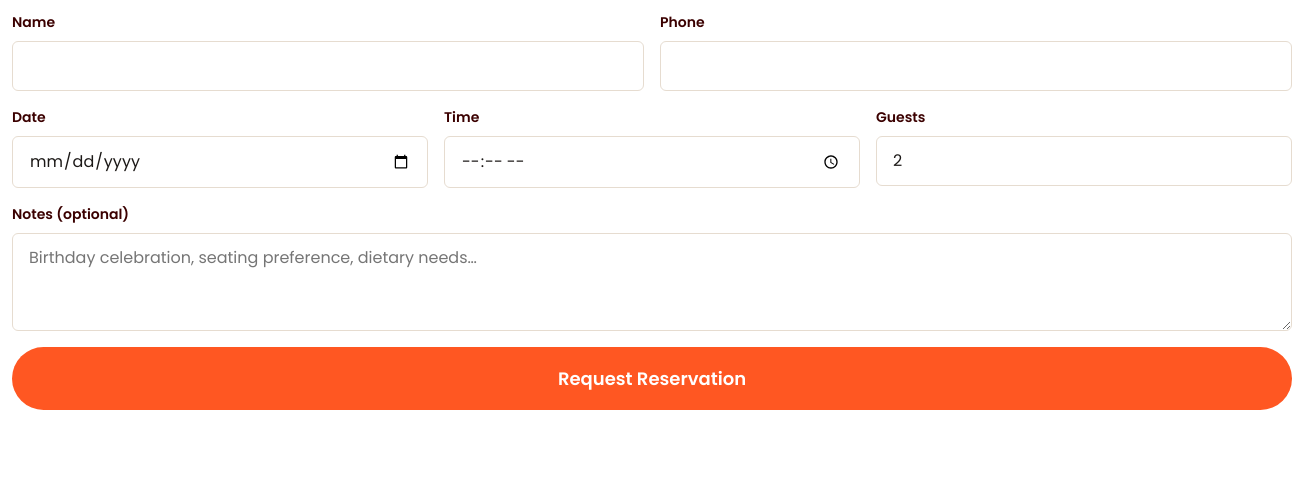
Test: ReservationForm › shows validation errors for empty required fields
Click the button "Request Reservation" at (652, 378), box [12,347,1292,410]
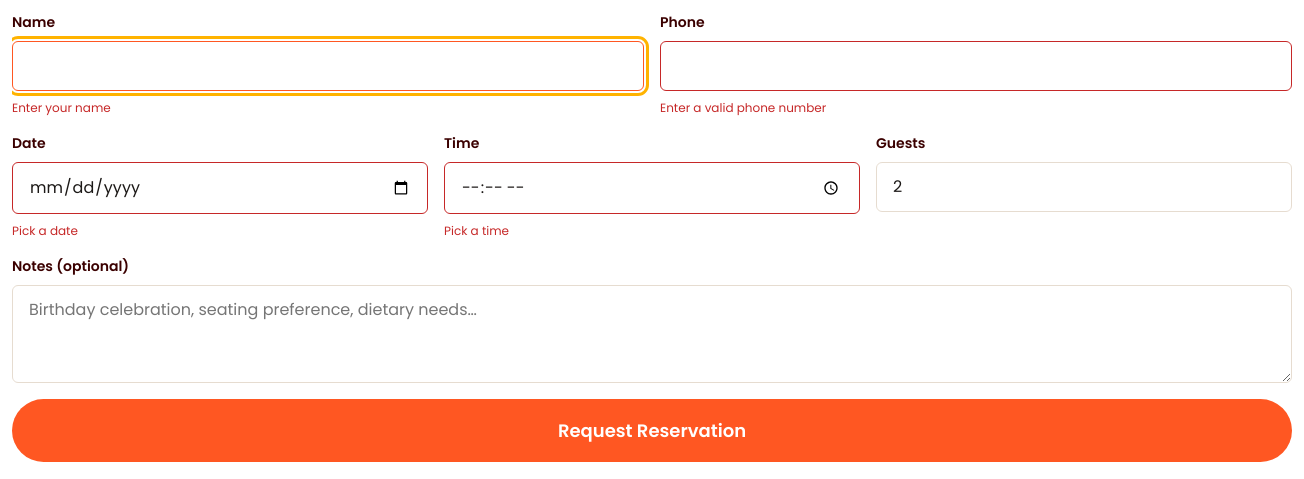
Expected: the text "Enter your name" is shown, [12,99,111,116]
Expected: the text "Enter a valid phone number" is shown, [660,99,826,116]
Expected: the text "Pick a date" is shown, [12,222,78,239]
